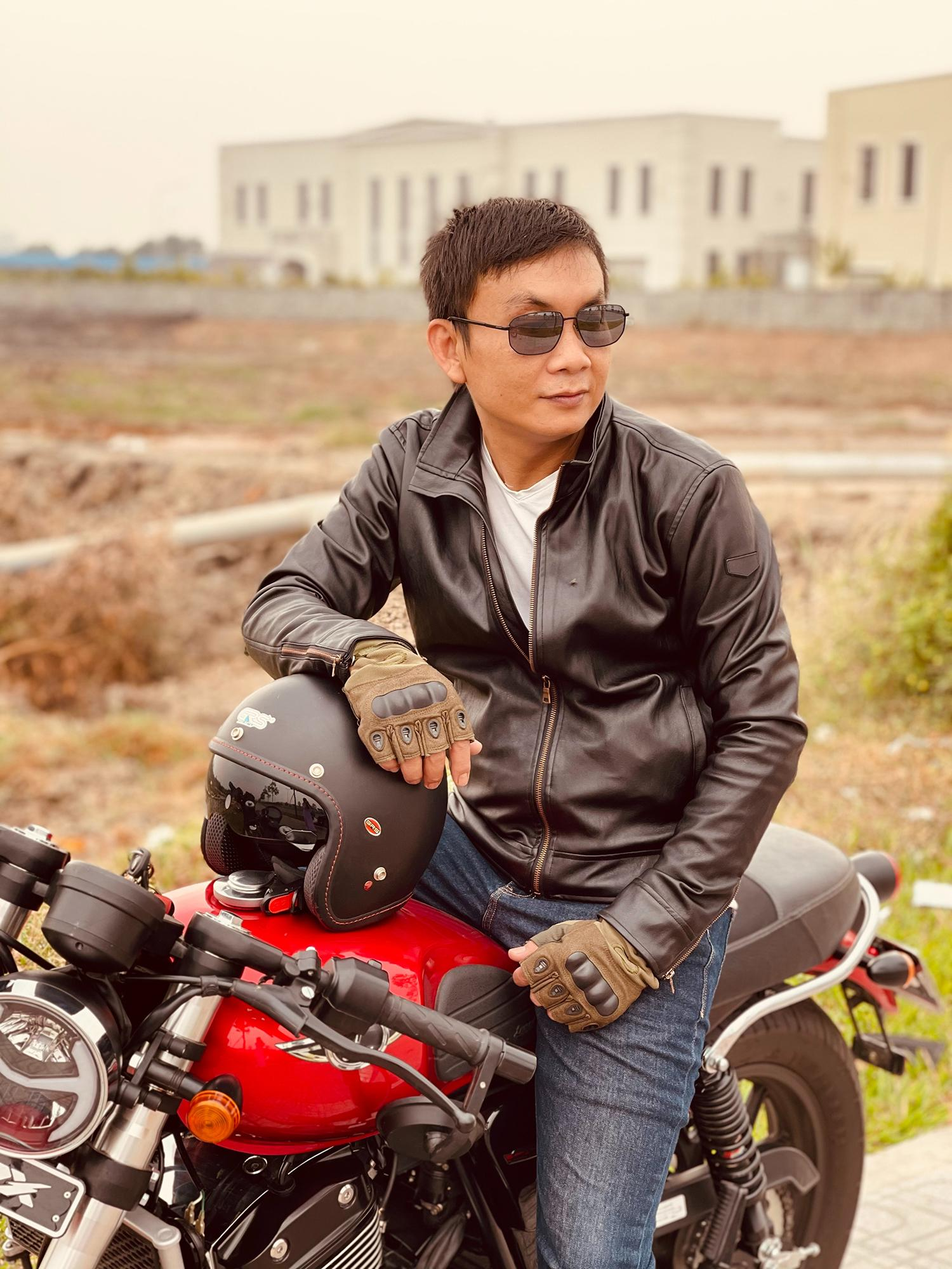helmet: (199, 663, 450, 935)
nohelmet: (418, 194, 632, 456)
